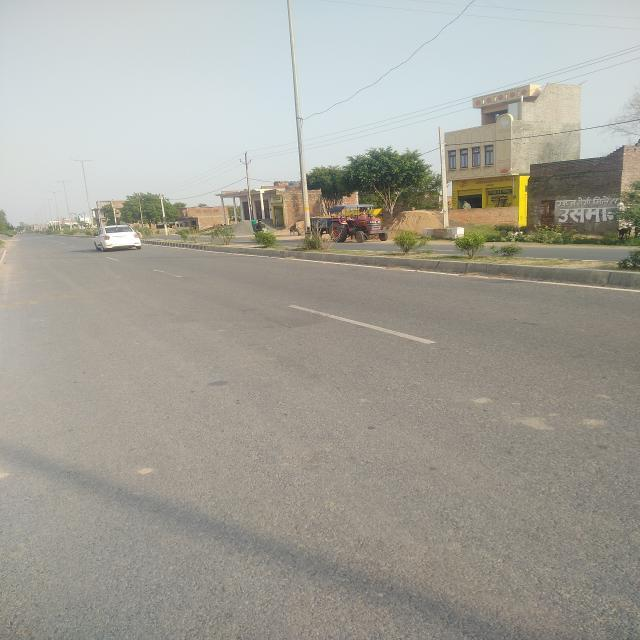car_back: (86, 220, 144, 255)
tractor_front: (299, 200, 394, 247)
